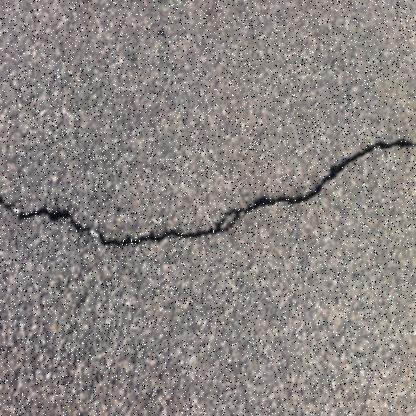Cracks: (0, 128, 415, 254)
